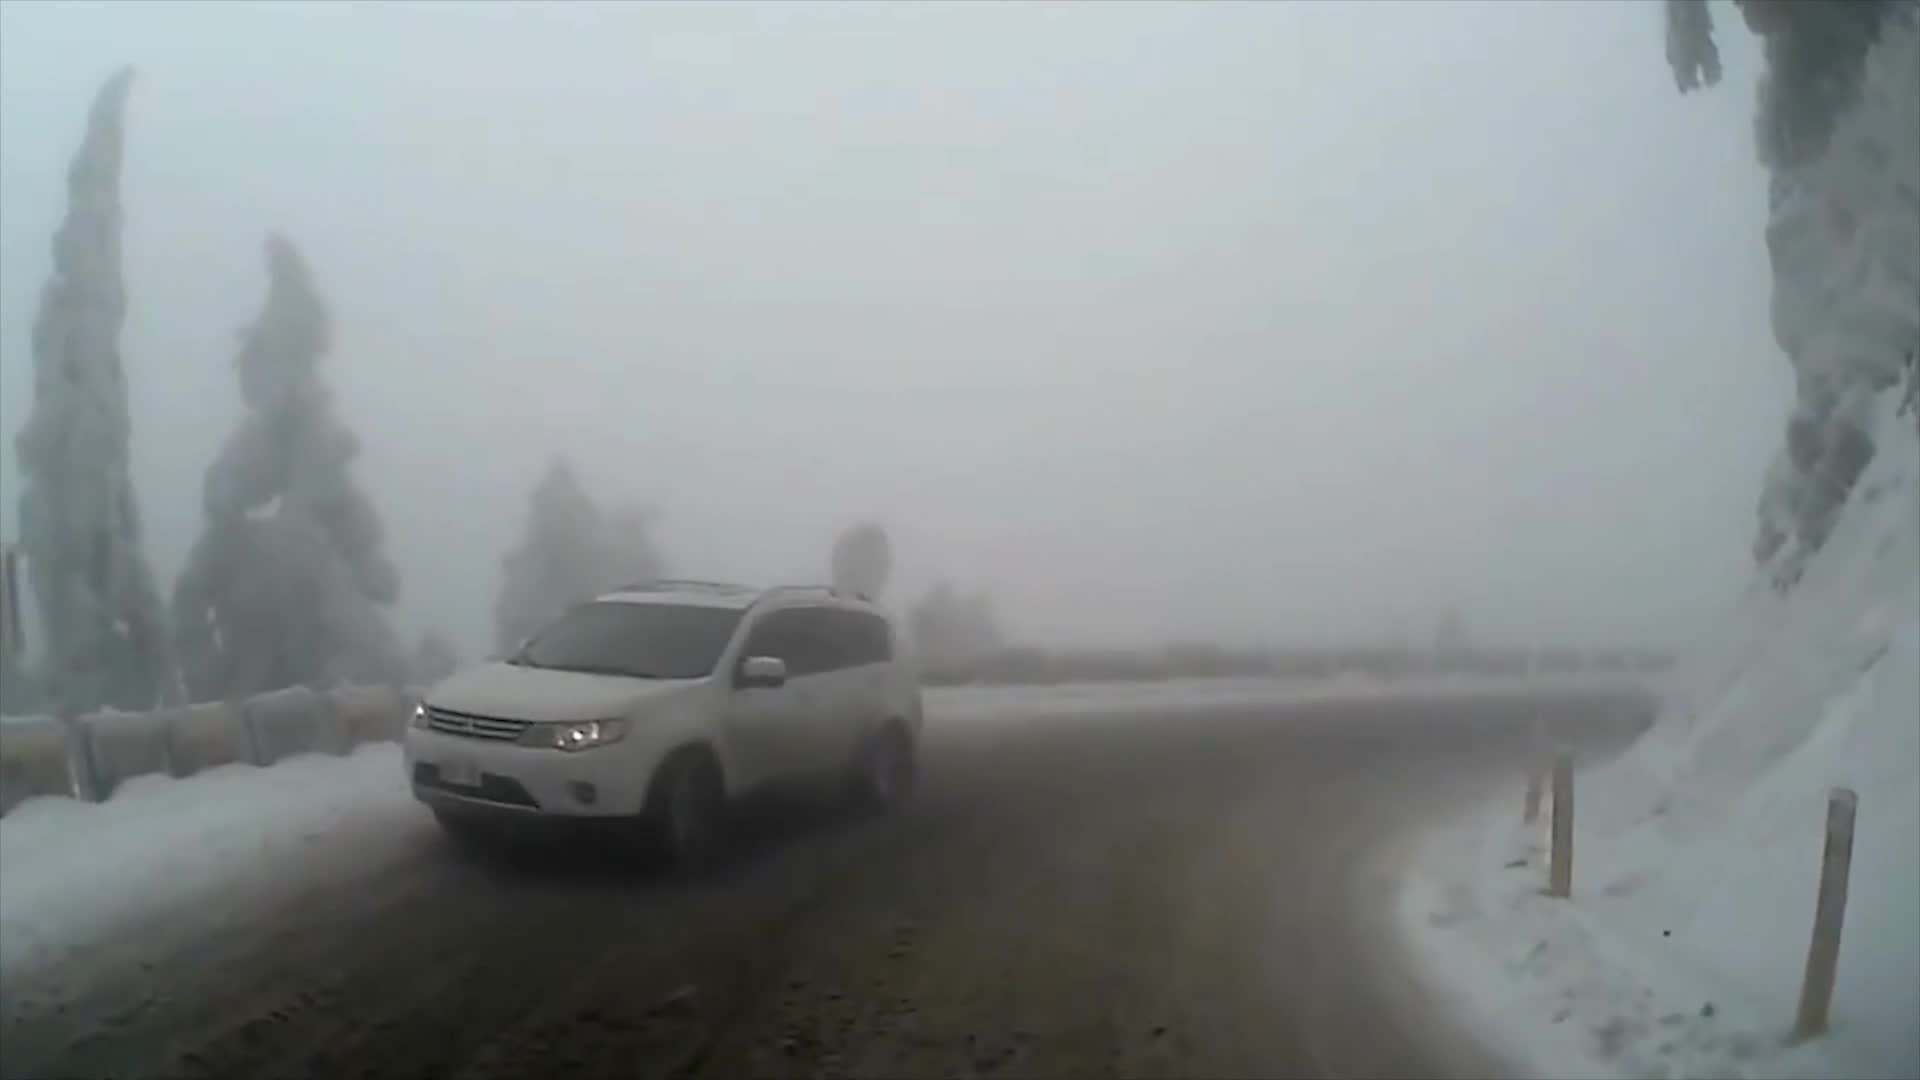vehicle: (397, 578, 928, 880)
